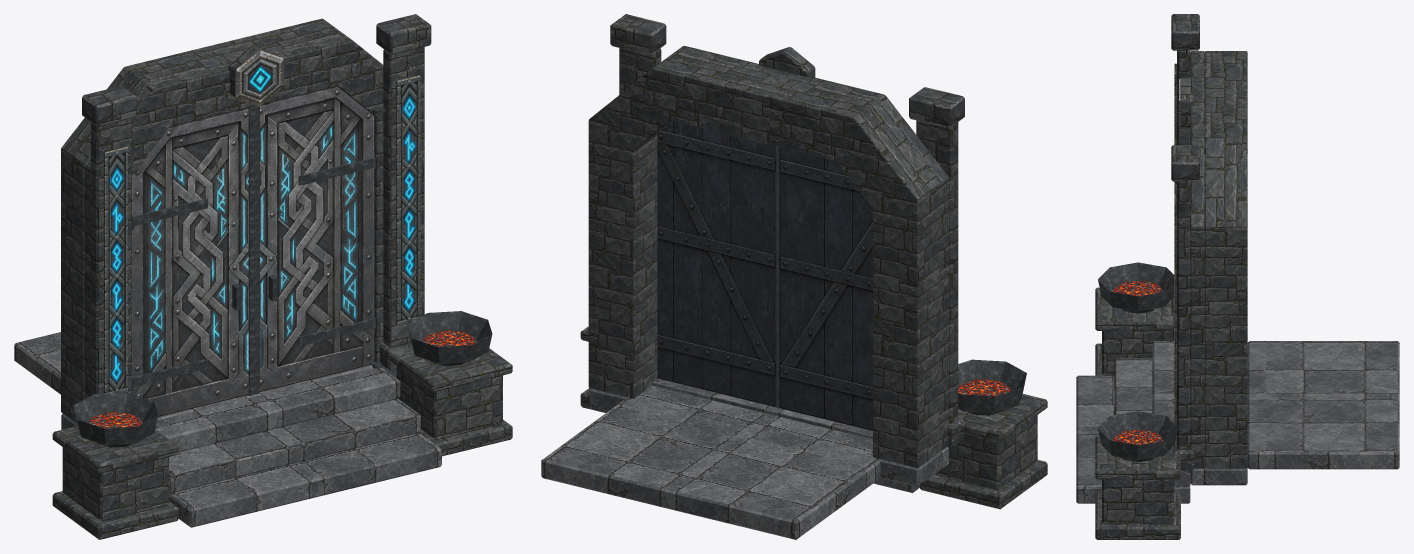
Rendered from dwarf-gate-v3.glb.
3 views of the same model, side by side, from view 1: azimuth 30°, elevation 25°; view 2: azimuth 150°, elevation 25°; view 3: azimuth 270°, elevation 25° (orthographic). The views are drawn at different scales.
Visible parts, largest first — view 1: door_r, door_l, frame_front, frame_back, step0, step1, step2, pillar_r, rune_frame_r, rune_frame_l, pillar_l, ped_body_l (+14 smaller); view 2: frame_back, door_r, floor_in, door_l, landing, frame_front, ped_body_l, pillar_l, bowl_l, ped_base_l, ped_top_l, threshold (+5 smaller); view 3: floor_in, frame_back, frame_front, step0, pillar_r, ped_body_r, bowl_r, bowl_l, step1, ped_top_r, ped_top_l, ped_body_l (+10 smaller).
Boxes of the visible parts, x1,y1,x2,y2 form: door_r: (248,86,379,395); door_l: (132,106,251,416); frame_front: (84,36,383,399); frame_back: (61,18,368,423); step0: (169,433,441,527); step1: (169,398,420,493); step2: (155,367,400,451); pillar_r: (383,47,424,347); rune_frame_r: (396,75,420,326); rune_frame_l: (104,146,127,393); pillar_l: (91,118,132,395); ped_body_l: (62,447,168,521); frame_back: (588,51,941,468); door_r: (657,121,778,407); floor_in: (541,398,880,539); door_l: (778,147,872,430); landing: (589,386,948,486); frame_front: (676,46,949,450); ped_body_l: (934,415,1037,490); pillar_l: (916,120,958,423); bowl_l: (958,359,1026,415); ped_base_l: (919,460,1047,509); ped_top_l: (958,394,1047,441); threshold: (652,378,872,439); floor_in: (1247,341,1399,469); frame_back: (1204,51,1247,468); frame_front: (1190,51,1204,468); step0: (1076,375,1190,503); pillar_r: (1177,181,1190,449); ped_body_r: (1102,479,1174,524); bowl_r: (1098,411,1178,462); bowl_l: (1098,262,1174,313); step1: (1114,358,1190,486); ped_top_r: (1095,436,1180,479); ped_top_l: (1095,287,1174,330); ped_body_l: (1102,331,1174,375).
Bounding box in the file's own units: 4.6 × 4.29 × 3.4.
Materials: 9 (8 with a texture image).
